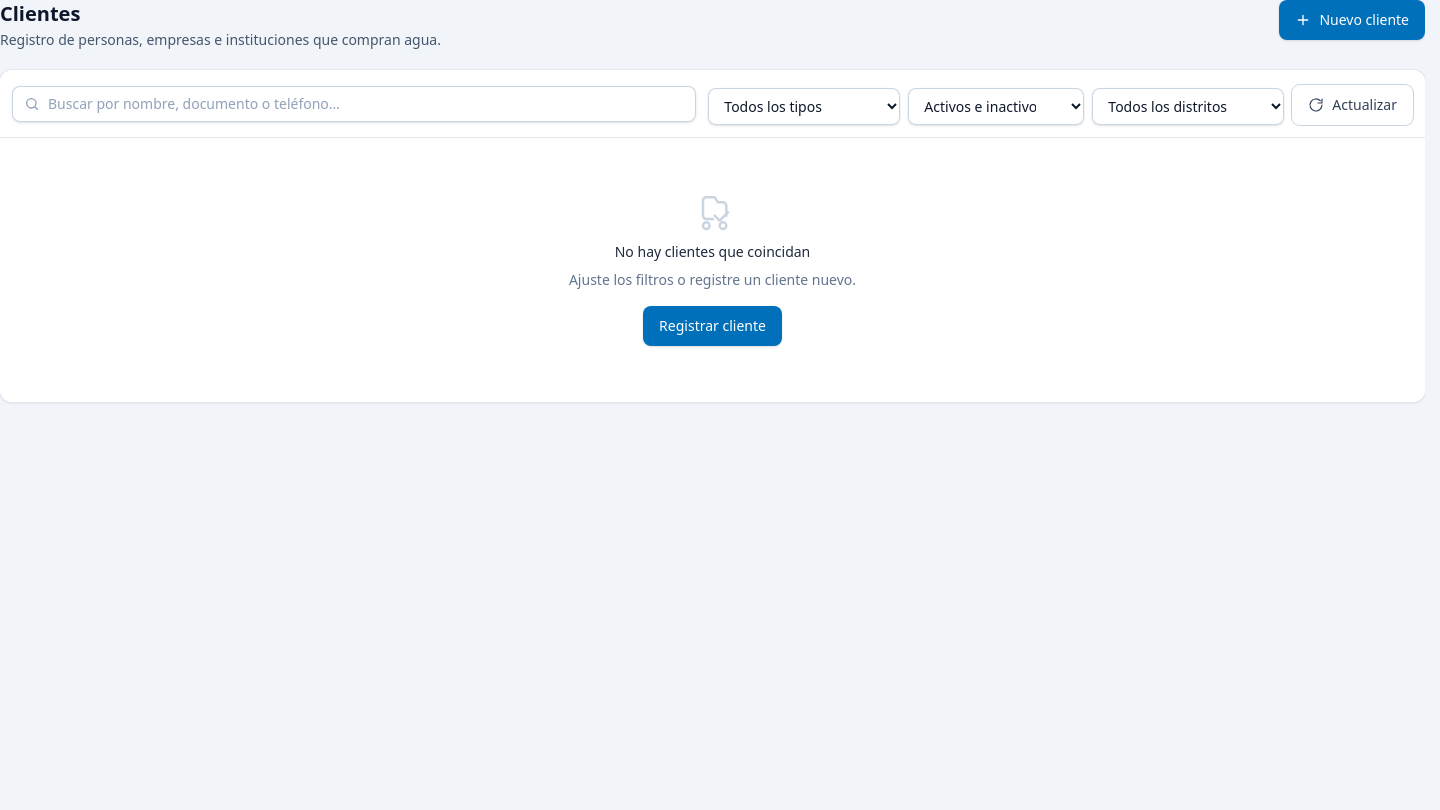
Scenario: alta de cliente › muestra el error del backend bajo el campo que lo produjo
Click the button "Nuevo cliente" at x=1352, y=20, box left=1279, top=0, right=1425, bottom=40
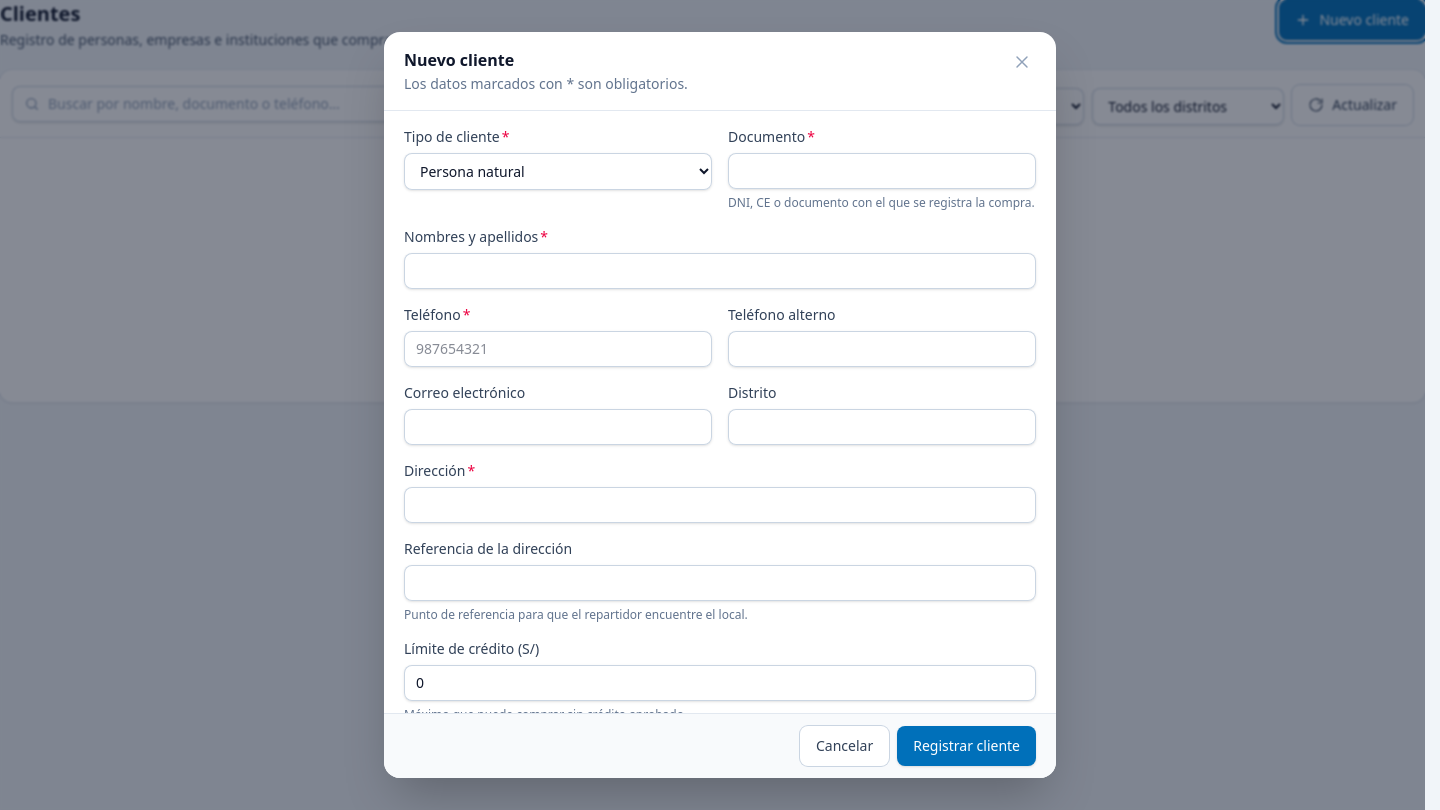
Type "70111999" into the field labelled "Documento*" at x=882, y=171, box left=728, top=153, right=1036, bottom=189
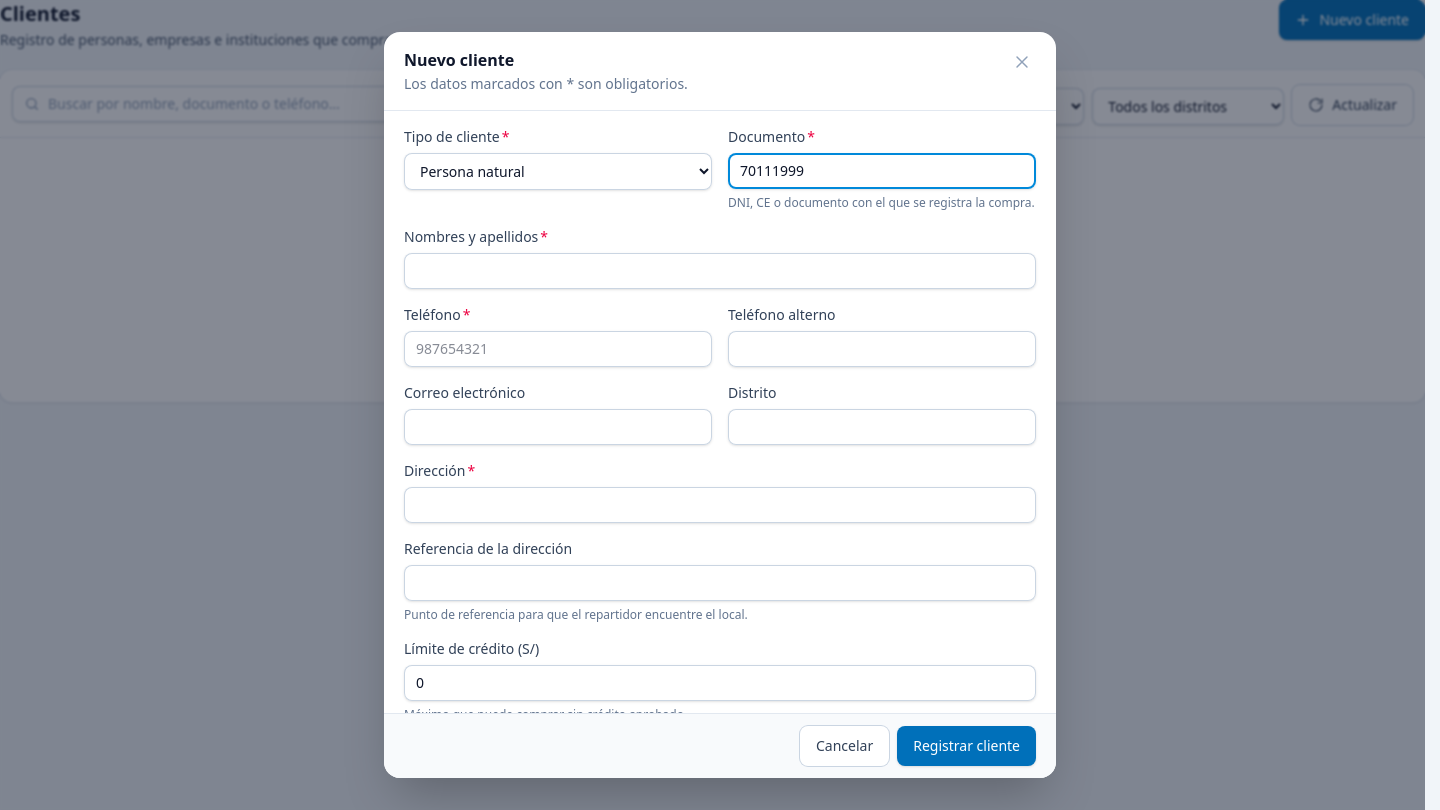
Type "Rosa Paredes Nina" into the field labelled "Nombres y apellidos*" at x=720, y=271, box left=404, top=253, right=1036, bottom=289
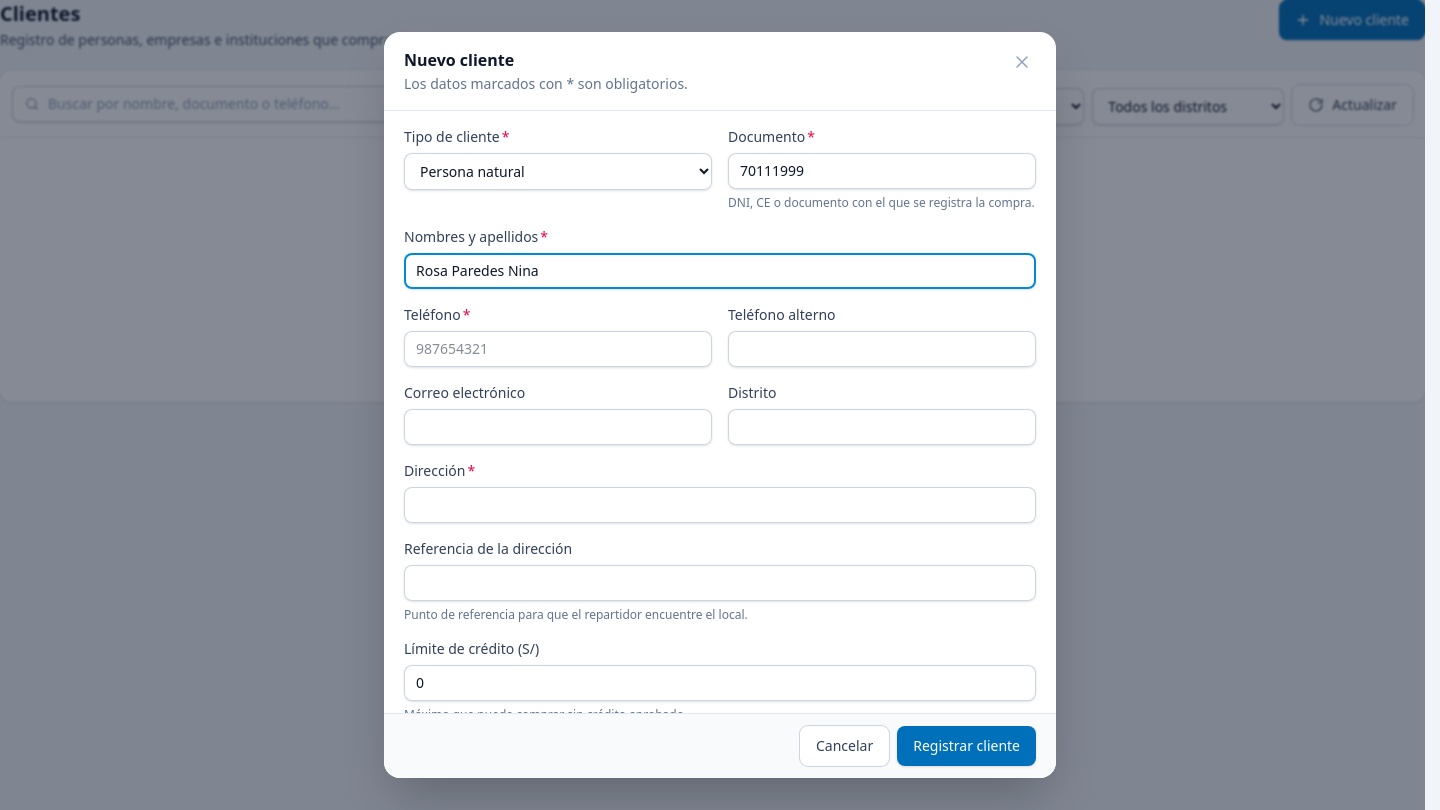
Type "123" into the field labelled "Teléfono*" at x=558, y=349, box left=404, top=331, right=712, bottom=367
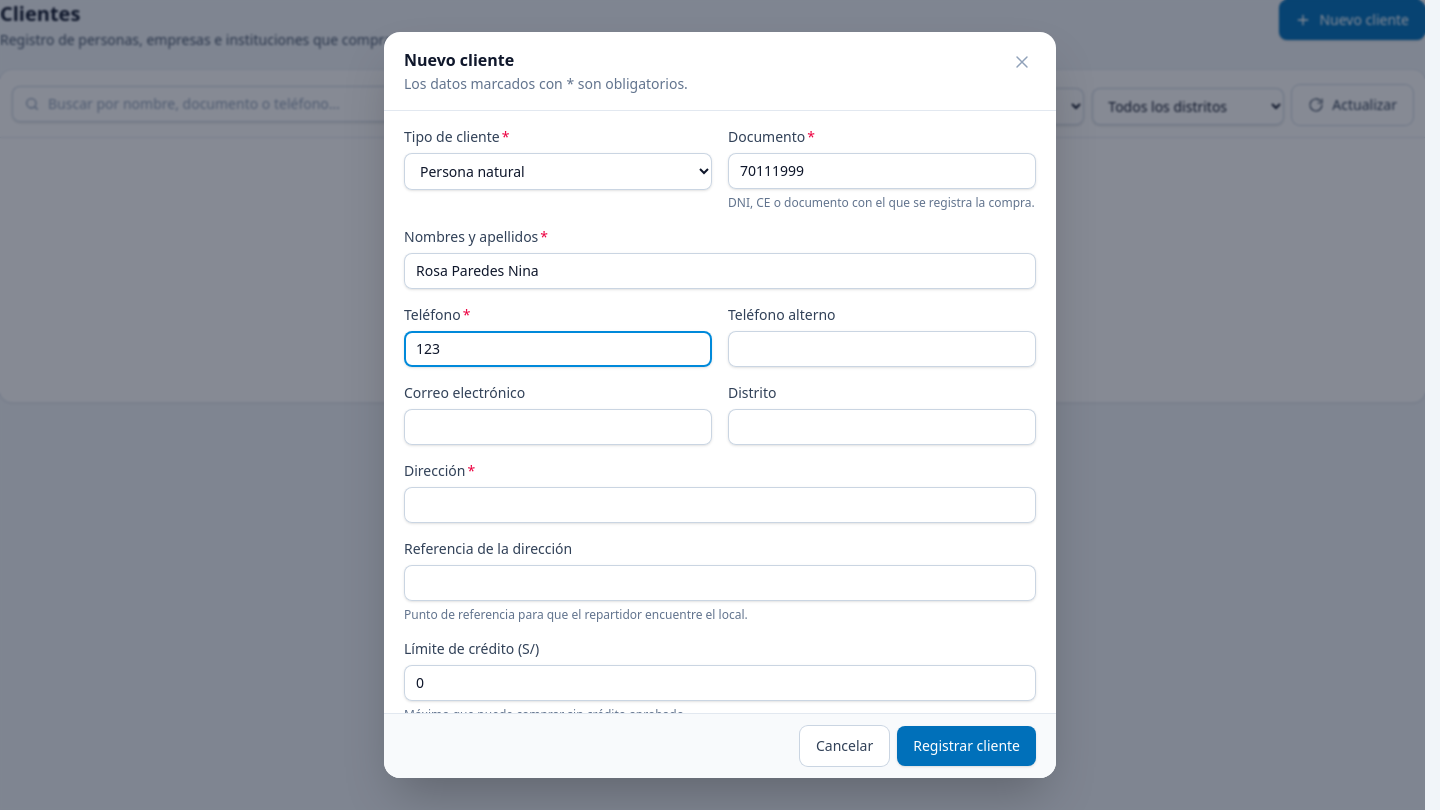
Type "Av. Iberia 450" into the field labelled "Dirección*" at x=720, y=505, box left=404, top=487, right=1036, bottom=523
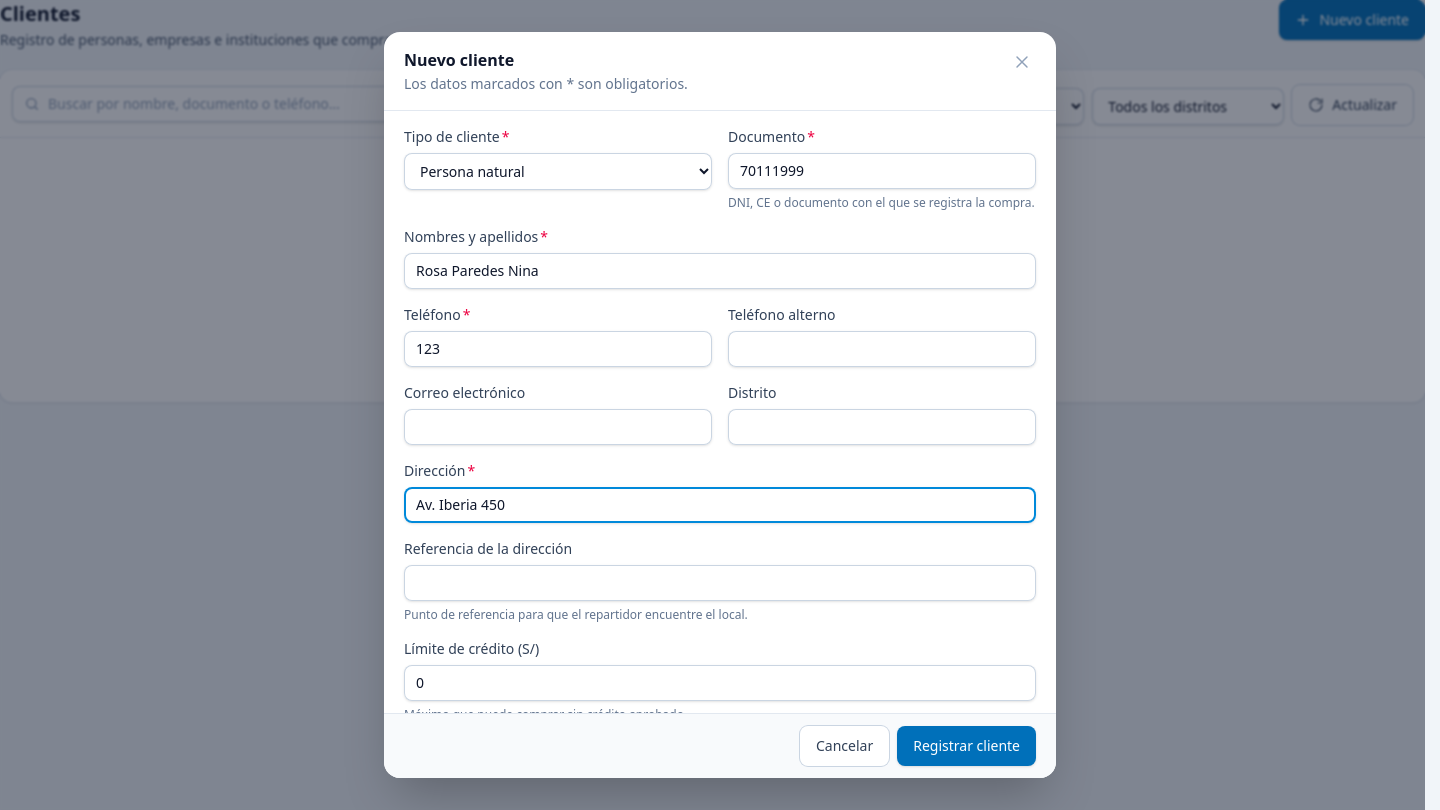
Click the button "Registrar cliente" at x=967, y=746, box left=897, top=726, right=1036, bottom=766
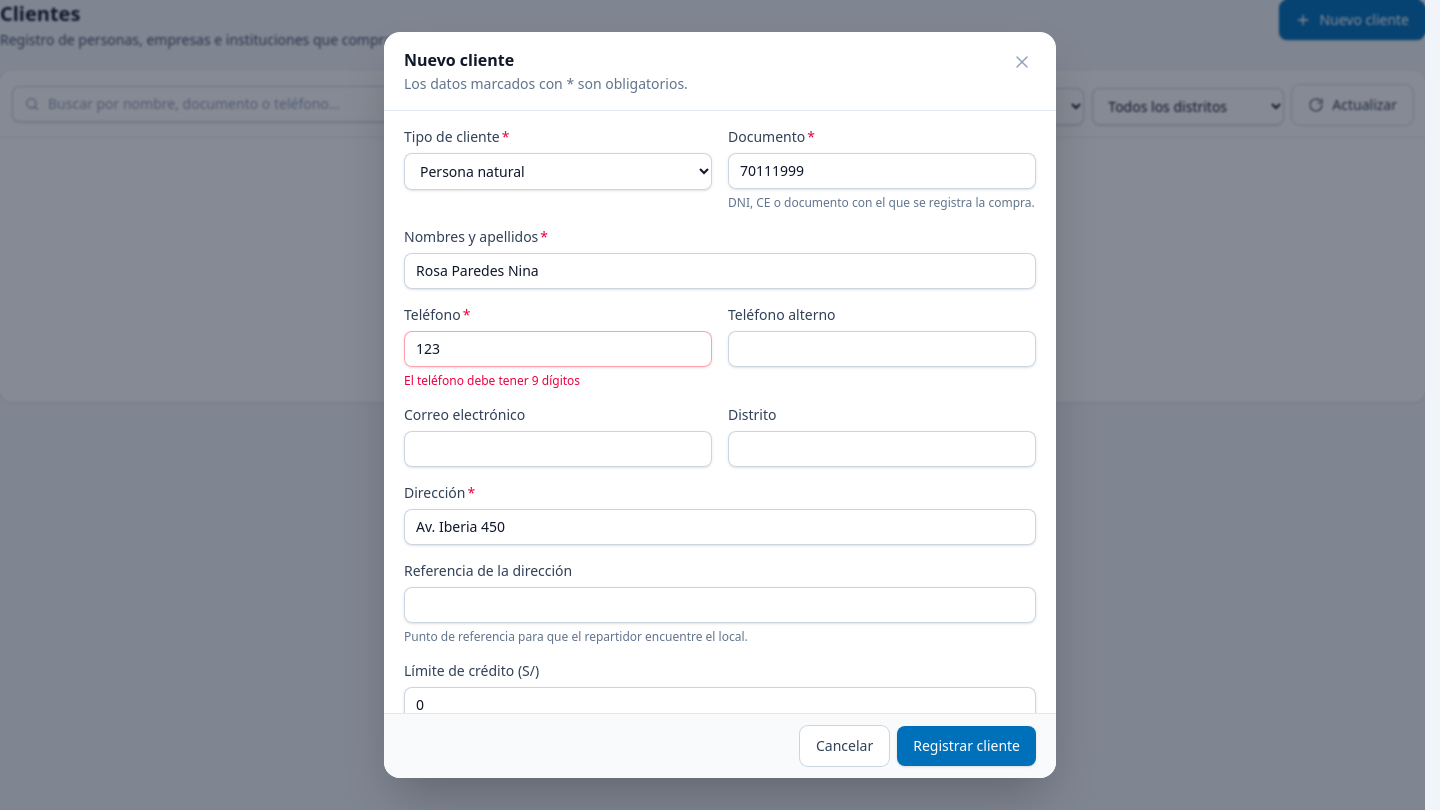
Expected: the text "El teléfono debe tener 9 dígitos" is shown, left=404, top=372, right=580, bottom=389
